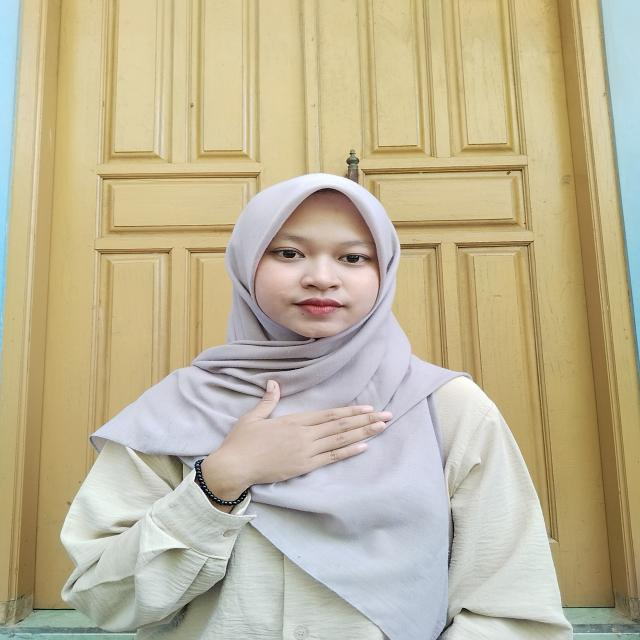tolong: (190, 376, 397, 514)
